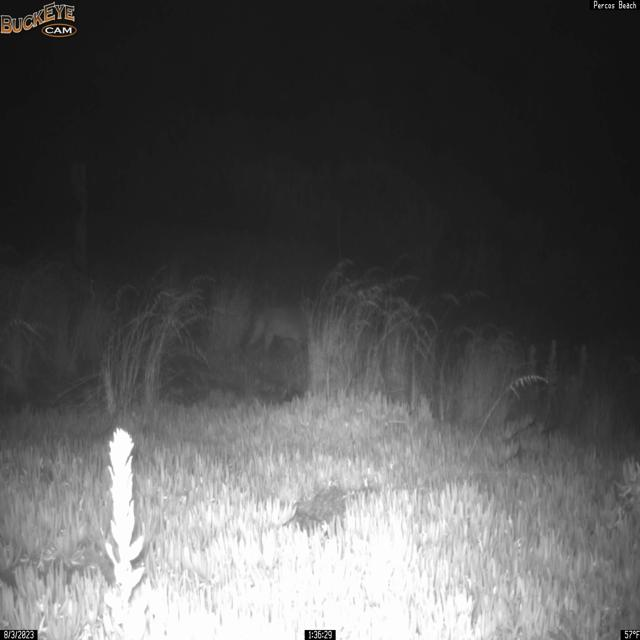coyote: (239, 303, 311, 361)
